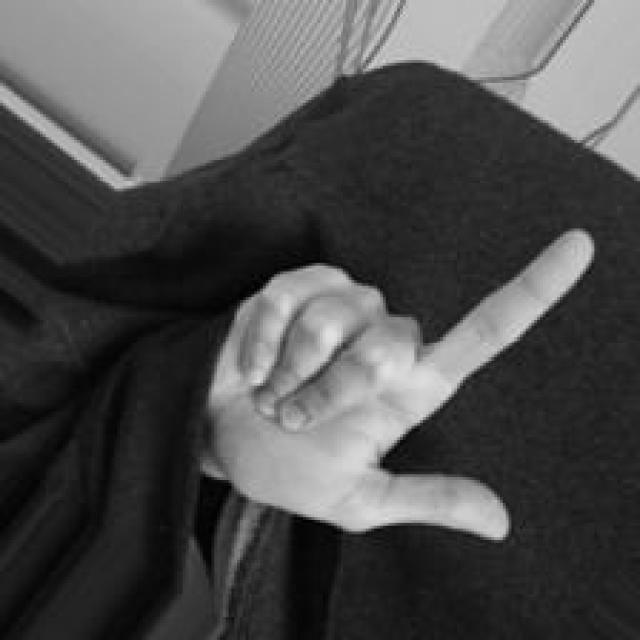L: (207, 217, 601, 541)
